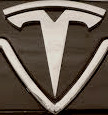Tesla: (1, 1, 108, 115)
